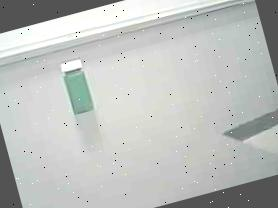Bottle C: (53, 52, 112, 128)
